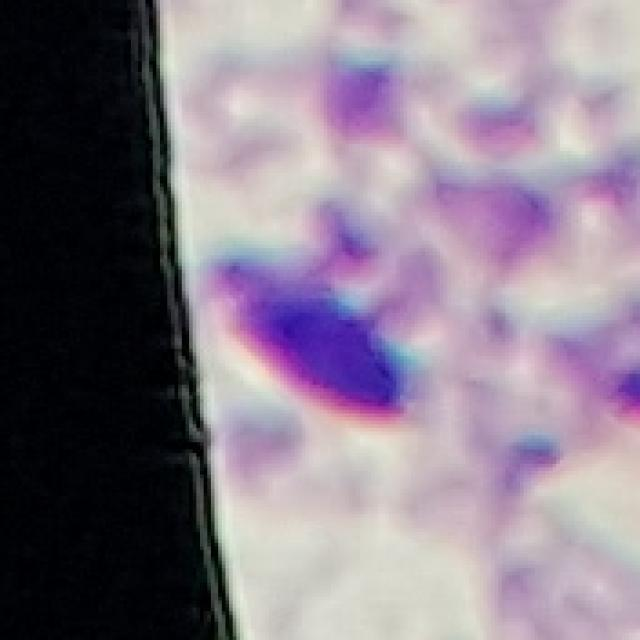non-sperm: (203, 197, 429, 428)
